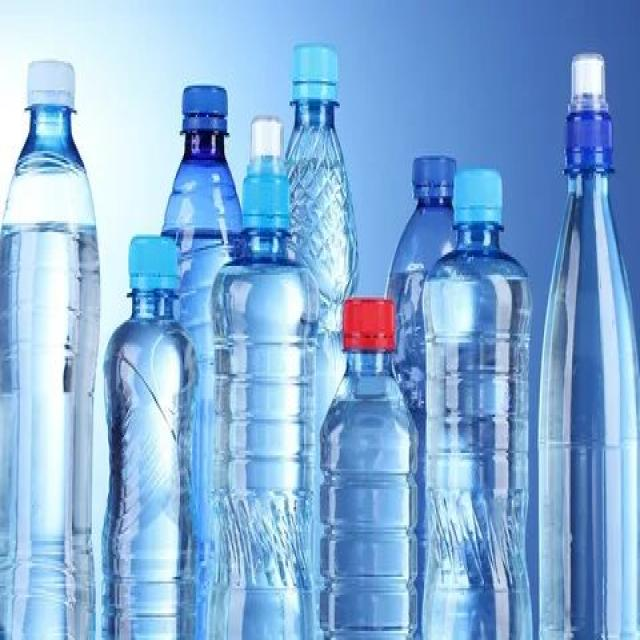blue: (212, 233, 320, 591), (320, 349, 416, 640), (104, 288, 198, 581)
